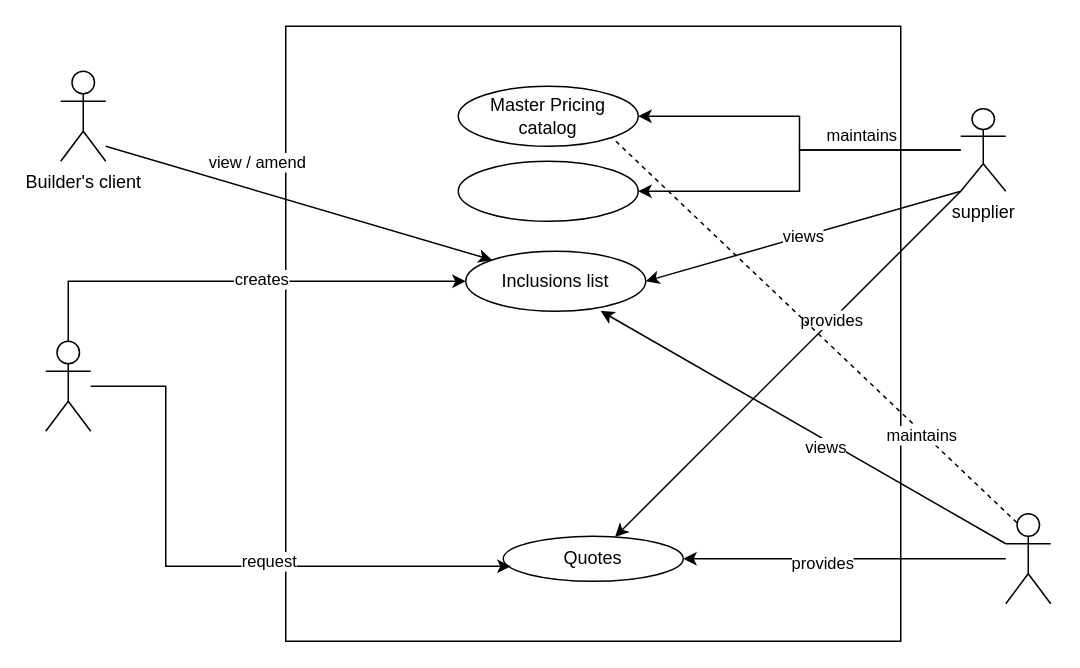
This 1080x668 diagram has some shape labels left out. Here are the shapes that lost their labels. From the top down, the centre of each, then its label:
At point 547,190: "Inventory".
At point 67,385: "Builder".
At point 1027,558: "Tradie".
